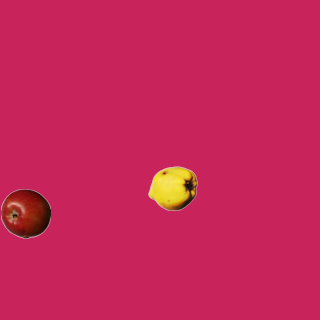Apple Braeburn: (0, 188, 50, 238)
Quince: (147, 163, 197, 213)
